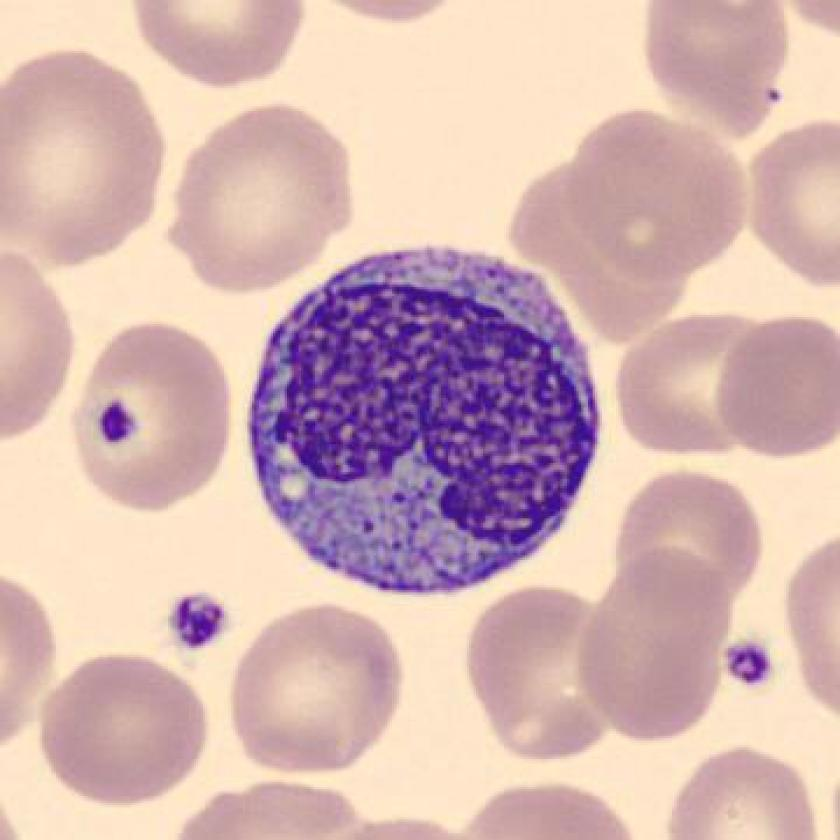monocyte: (237, 235, 617, 621)
